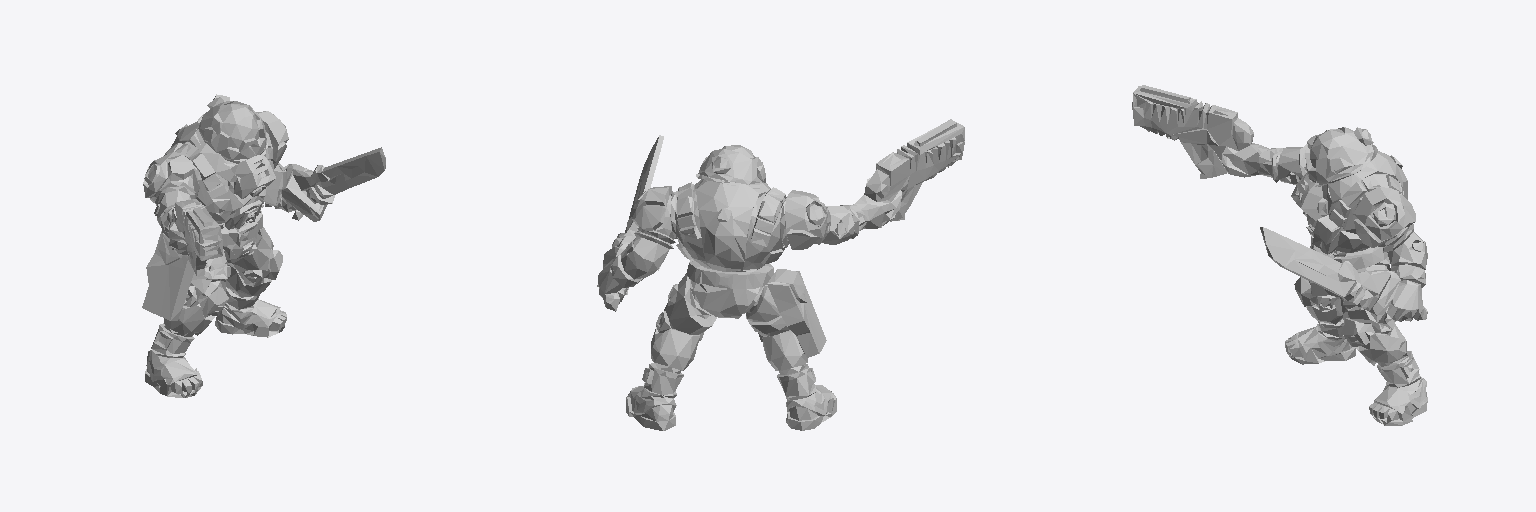
The model's file is SwordLowpoly.obj.
3 views of the same model, side by side, from view 1: azimuth 30°, elevation 25°; view 2: azimuth 150°, elevation 25°; view 3: azimuth 270°, elevation 25° (orthographic).
Visible parts, largest first — view 1: texture_pbr_v128.008; view 2: texture_pbr_v128.008; view 3: texture_pbr_v128.008.
Boxes of the visible parts, box(x1,y1,x2,y2) form: texture_pbr_v128.008: box(142, 94, 385, 397); texture_pbr_v128.008: box(597, 119, 964, 430); texture_pbr_v128.008: box(1132, 85, 1427, 425).
Bounding box in the file's own units: 0.7052 × 0.6931 × 0.7137.